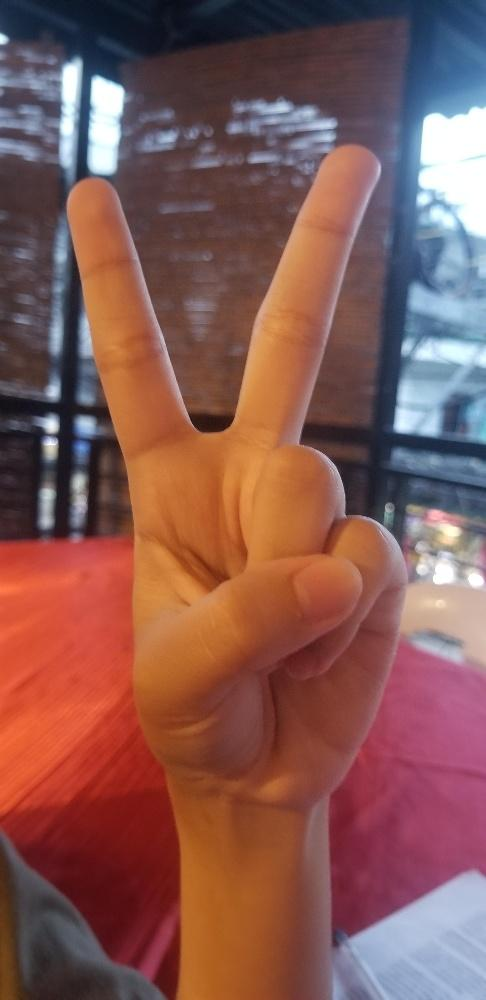v: (63, 143, 408, 791)
